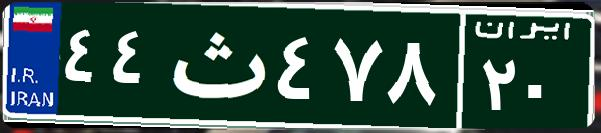0: (525, 38, 570, 115)
2: (475, 38, 525, 113)
4: (273, 28, 330, 110), (57, 26, 110, 107), (110, 28, 158, 105)
7: (330, 28, 385, 110)
8: (385, 28, 445, 110)
ث: (158, 15, 273, 115)
